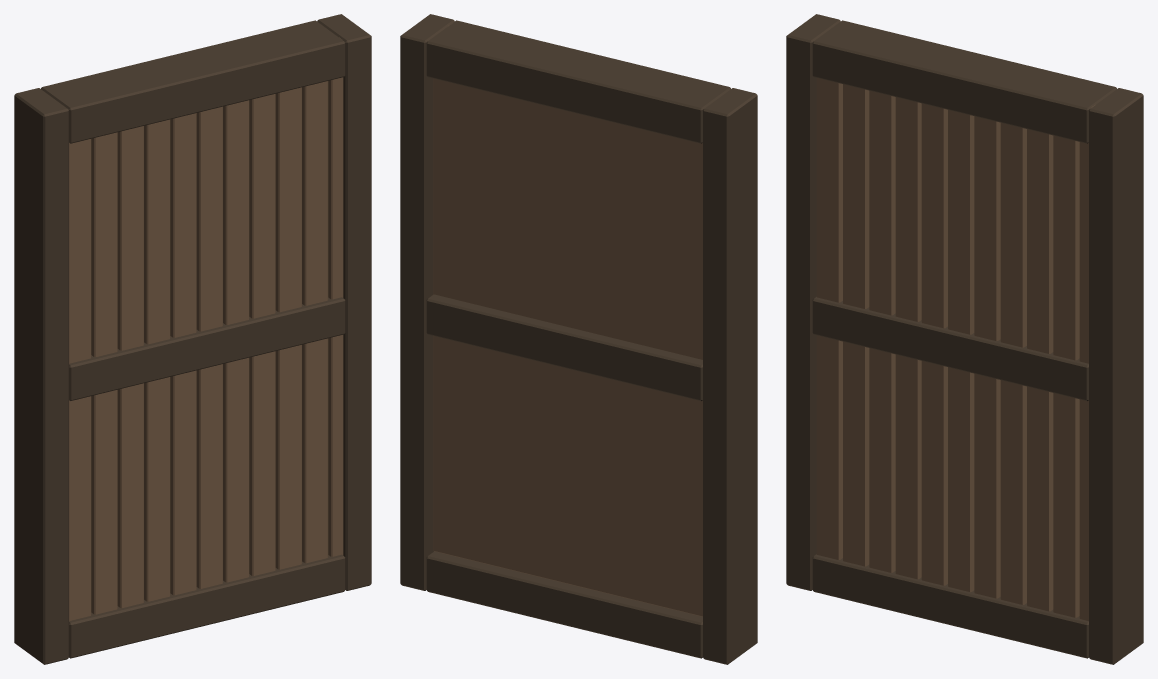
File: SM_Henhouse_Wall_250_A.fbx
The picture shows the model from 3 angles, left to right: view 1: azimuth 30°, elevation 25°; view 2: azimuth 150°, elevation 25°; view 3: azimuth 330°, elevation 25°; orthographic projection.
Visible parts, largest first — view 1: SM_Henhouse_Wall_250_A; view 2: SM_Henhouse_Wall_250_A; view 3: SM_Henhouse_Wall_250_A.
Boxes of the visible parts, <box> form: SM_Henhouse_Wall_250_A: <box>14,14,371,664</box>; SM_Henhouse_Wall_250_A: <box>400,14,757,664</box>; SM_Henhouse_Wall_250_A: <box>786,14,1143,664</box>.
Size of what is drawn, in the model's own units: 40 by 250 by 400.
